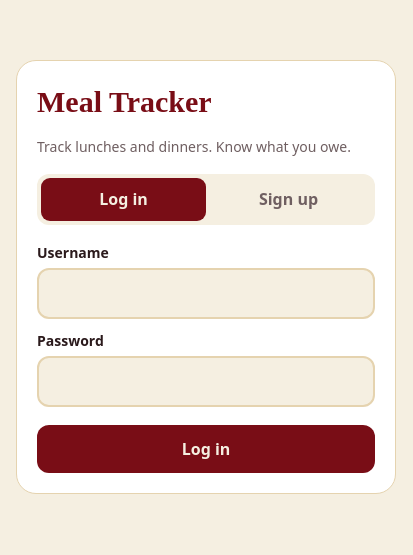
Scenario: the password warning popover opens, announces itself, and closes on Escape
This screenshot has width=413, height=555.
Step 1. Click the tab "Sign up" → (288, 200), box [206,178,371,221]
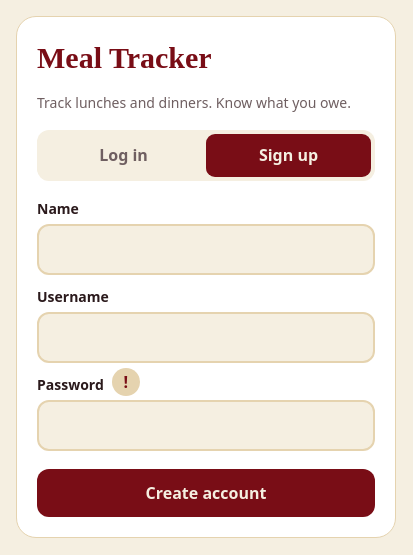
Step 2. Click the button named "Password warning" → (126, 382), box [112,368,140,396]
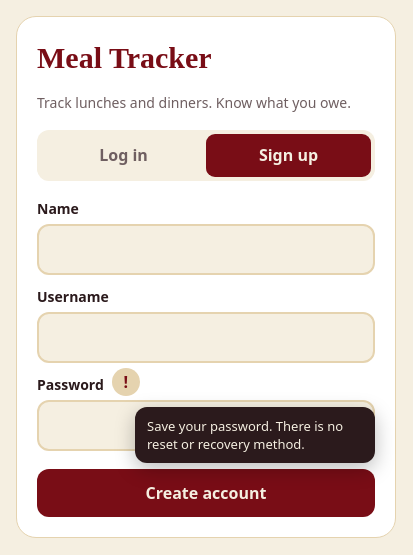
Expected: the tooltip reads "Save your password. There is no reset or recovery method.", [147,417,343,453]
Step 3. Press Escape
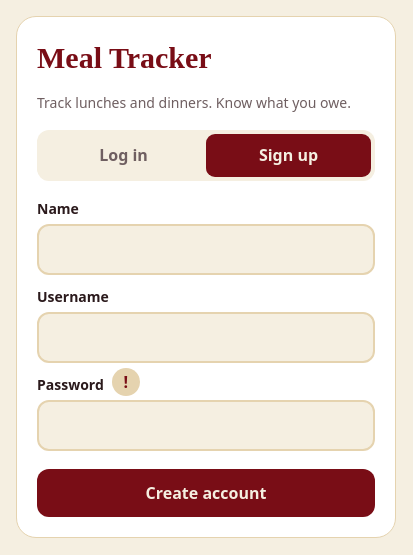
Expected: the tooltip "Save your password. There is no reset or recovery method." is gone
